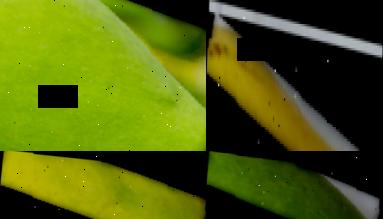PartiallyRipe: (0, 151, 206, 219)
Ripe: (206, 36, 381, 151)
Unripe: (0, 0, 206, 151), (206, 151, 383, 219)
